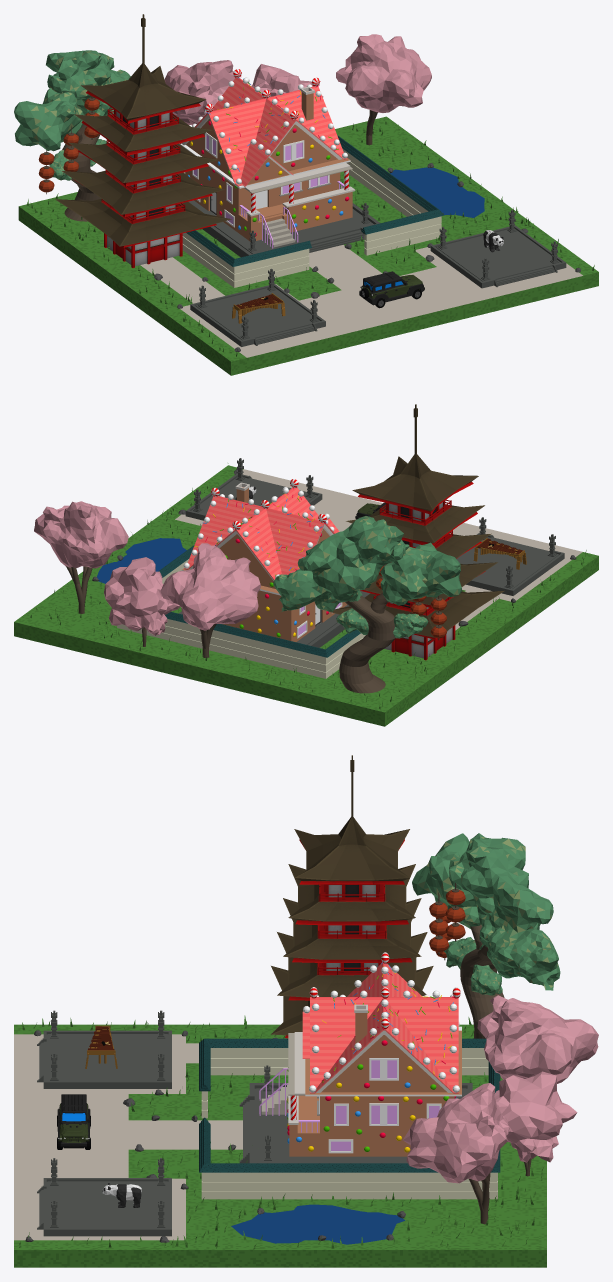
3 renders of one model, top to bottom at view 1: azimuth 30°, elevation 25°; view 2: azimuth 150°, elevation 25°; view 3: azimuth 270°, elevation 25°, orthographic. The views are drawn at different scales.
Parts seen in each view (by area): view 1: Cube.005, Cube.1203, VEHICLES_JEEP, OBJRANDOM_MARIMBA; view 2: Cube.005, Cube.1203, OBJRANDOM_MARIMBA; view 3: Cube.005, Cube.1203, VEHICLES_JEEP, OBJRANDOM_MARIMBA.
Boxes of the visible parts, box(x1,y1,x2,y2) form: Cube.005: box(14, 14, 598, 375); Cube.1203: box(179, 69, 355, 248); VEHICLES_JEEP: box(359, 271, 424, 308); OBJRANDOM_MARIMBA: box(232, 293, 285, 323); Cube.005: box(14, 404, 598, 726); Cube.1203: box(181, 479, 347, 641); OBJRANDOM_MARIMBA: box(473, 538, 526, 569); Cube.005: box(14, 755, 598, 1267); Cube.1203: box(259, 952, 461, 1156); VEHICLES_JEEP: box(57, 1094, 90, 1149); OBJRANDOM_MARIMBA: box(85, 1025, 117, 1068).
Bounding box in the file's own units: 4528 × 2690 × 4389.
Materials: 50 (6 with a texture image).
